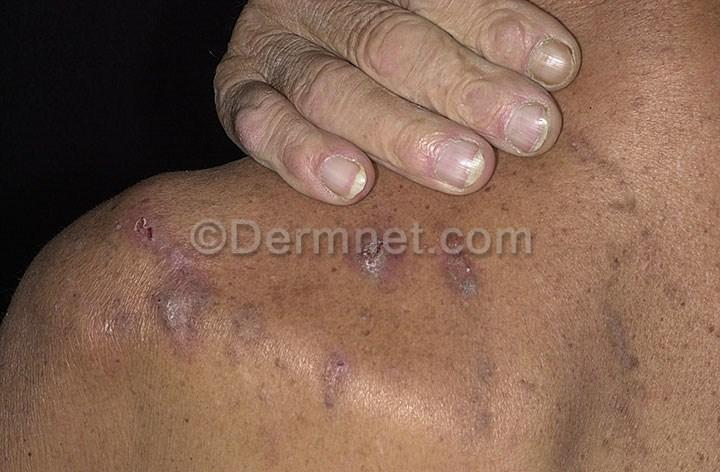Eczema: (91, 221, 222, 359), (322, 204, 420, 307), (284, 326, 379, 421), (572, 296, 657, 398), (438, 338, 514, 442), (582, 159, 662, 252), (200, 281, 278, 369), (423, 226, 496, 314), (652, 258, 720, 347), (131, 374, 194, 445), (28, 294, 90, 365), (560, 122, 631, 174), (371, 335, 429, 391), (598, 418, 665, 465), (222, 174, 275, 222), (279, 277, 324, 327), (503, 372, 547, 418), (52, 230, 87, 273), (130, 182, 176, 214)
